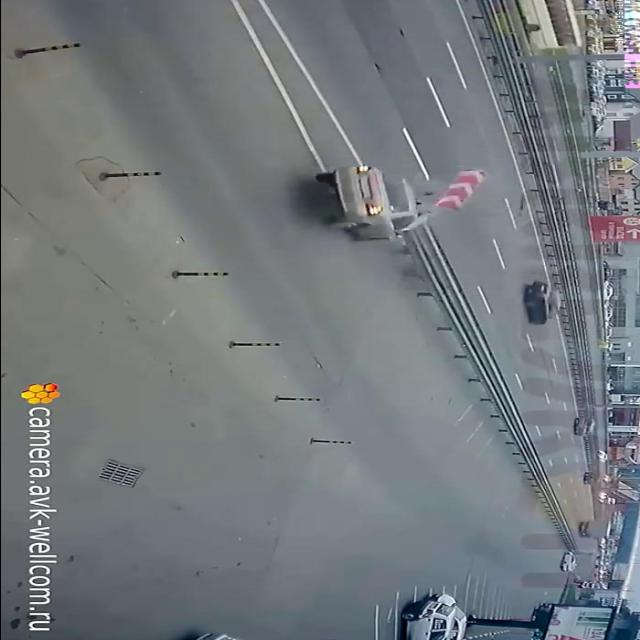accident: (295, 143, 501, 251)
